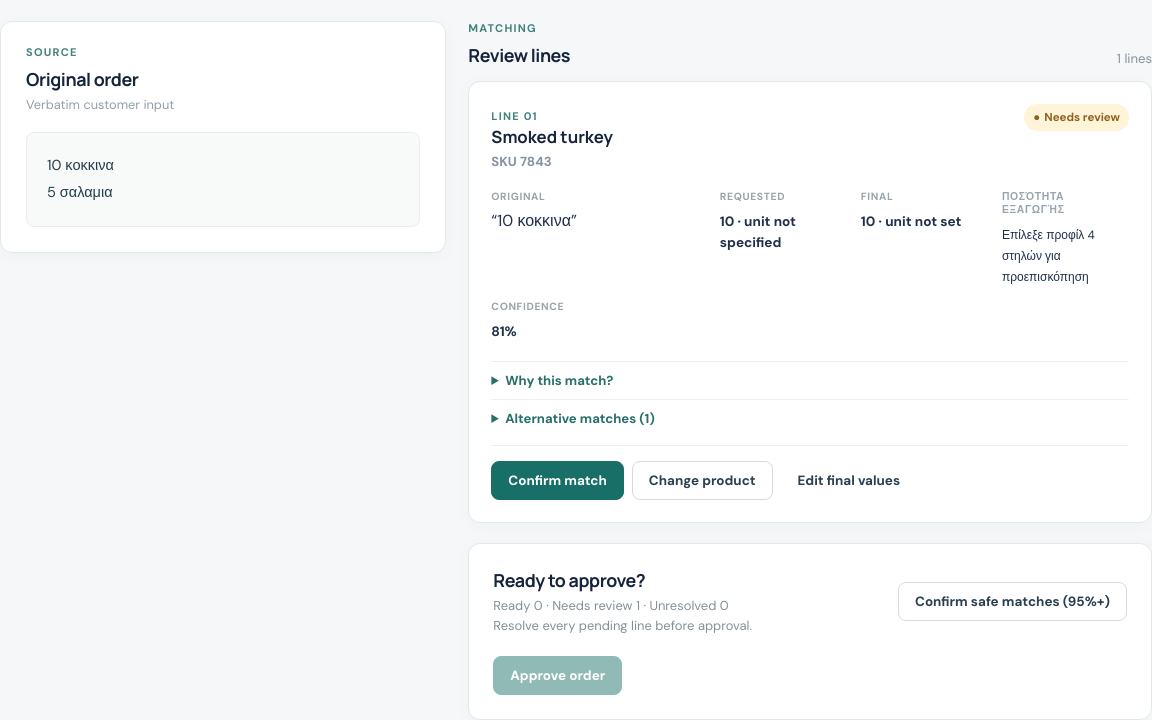
Test: operator review › shows missing customer unit separately from the operator final unit
(page scrolled)
expect the text "10 · unit not specified" is shown: met, box [720,213,796,251]
expect the text "10 · unit not set" is shown: met, box [861,213,961,230]
Click the button "Edit final values" at (849, 480), box [780,461,917,500]
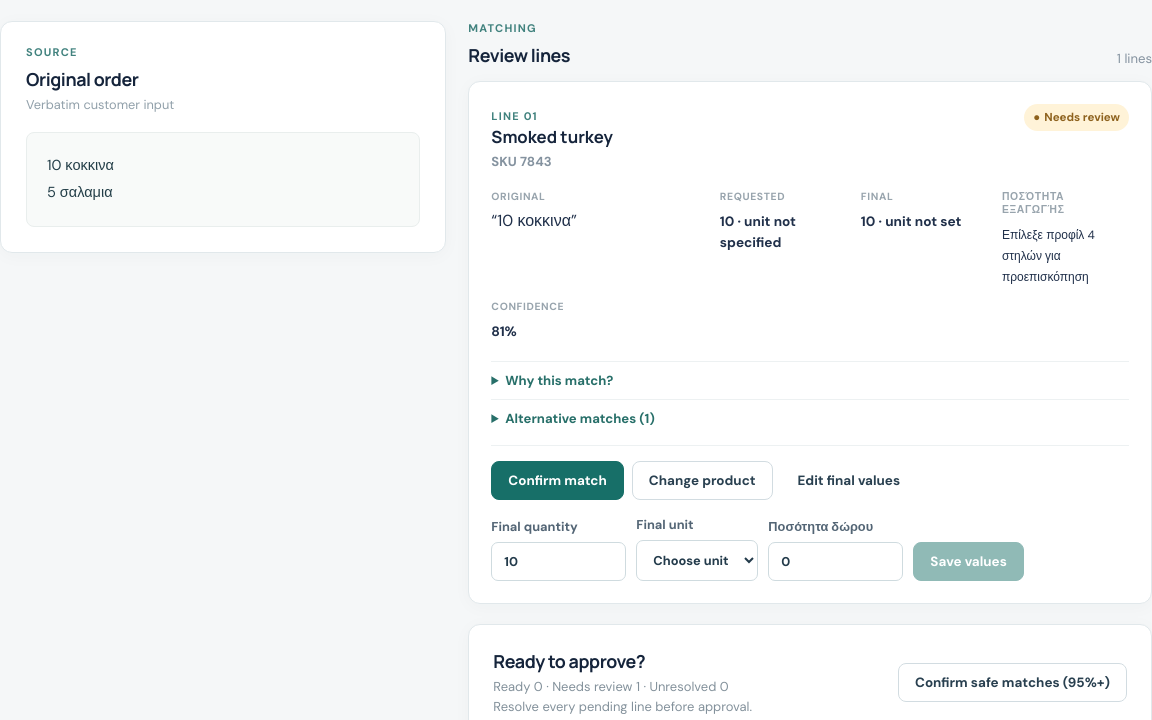
expect the dropdown labelled "Final unit" shows "Choose unit": met
expect the button "Save values" is disabled: met, box [913,542,1024,581]
Select "piece" in the dropdown labelled "Final unit" at (697, 560), box [636,540,758,581]
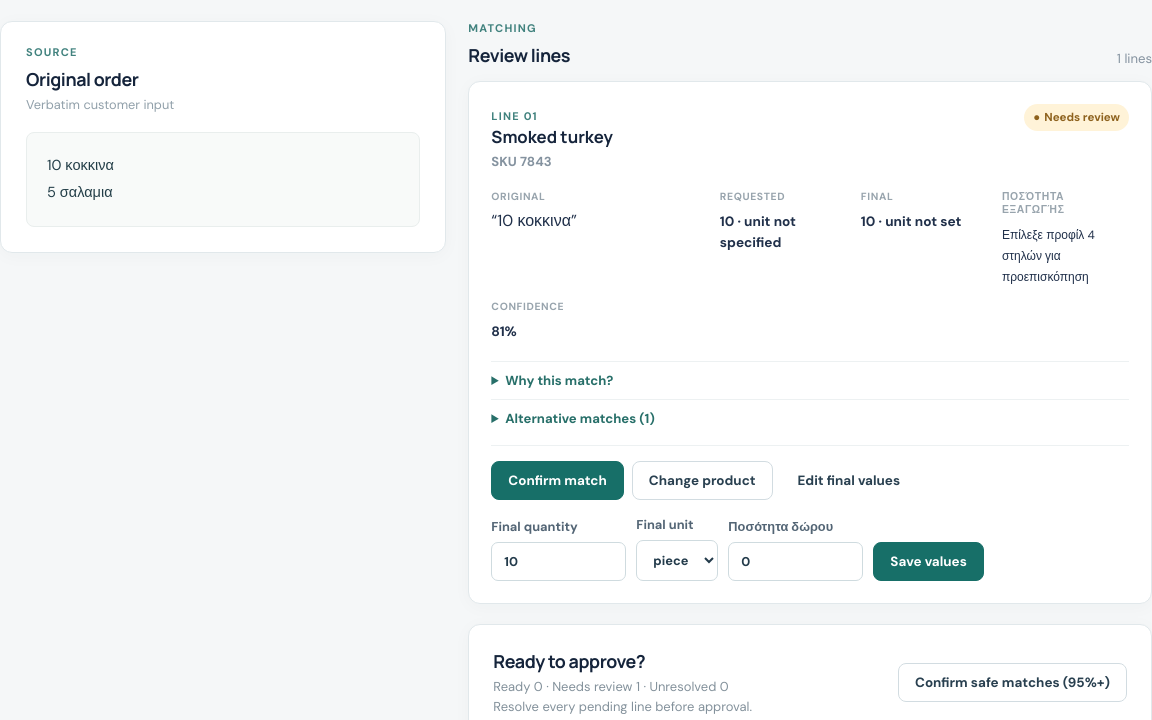
expect the button "Save values" is enabled: met, box [873,542,984,581]
